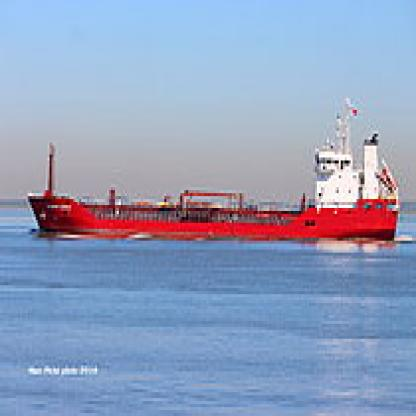Tanker: (28, 118, 398, 246)
